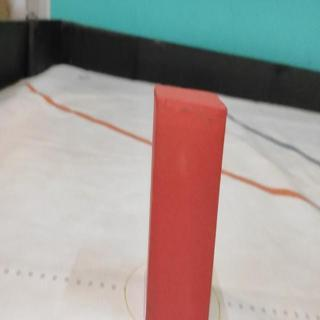redbox: (145, 85, 229, 320)
